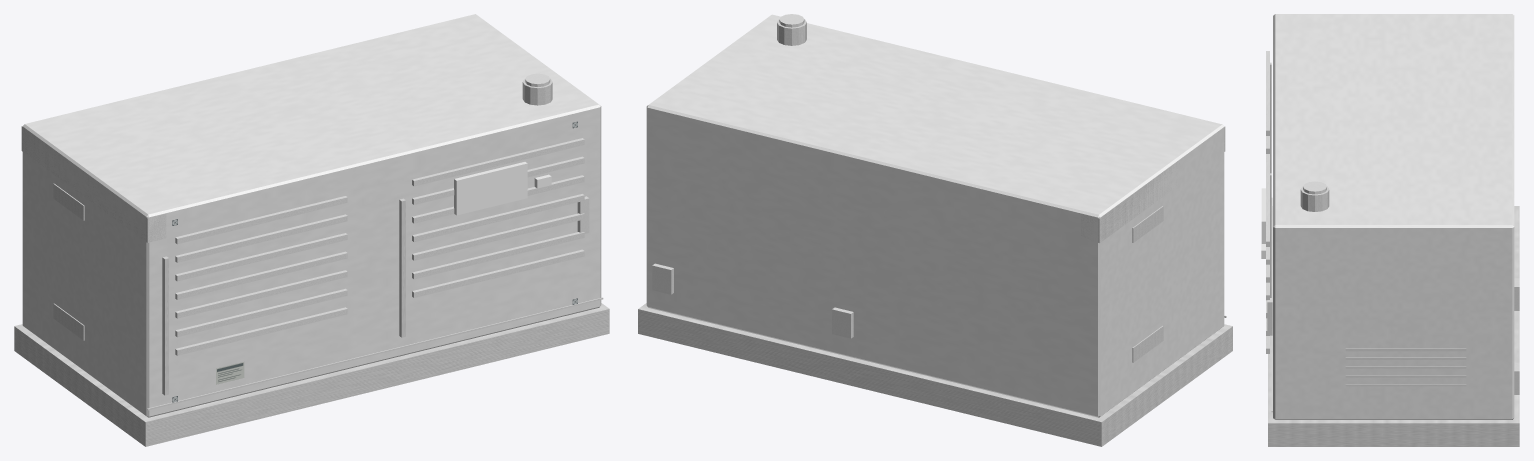
File: standbygenerator_medium.obj
The picture shows the model from 3 angles, left to right: view 1: azimuth 30°, elevation 25°; view 2: azimuth 150°, elevation 25°; view 3: azimuth 270°, elevation 25°; orthographic projection. The views are drawn at different scales.
Parts seen in each view (by area): view 1: Case, Trim, Vents, Display; view 2: Case, Trim, Output; view 3: Case, Trim, Vents, Output, Display.
Part boxes in pixels (x1,y1,x2,y2): Case: [22, 14, 601, 417]; Trim: [14, 78, 609, 446]; Vents: [175, 73, 584, 355]; Display: [454, 162, 527, 215]; Case: [646, 14, 1224, 417]; Trim: [638, 19, 1232, 446]; Output: [652, 263, 853, 338]; Case: [1273, 14, 1514, 419]; Trim: [1267, 15, 1519, 446]; Vents: [1266, 51, 1326, 353]; Output: [1514, 278, 1519, 394]; Display: [1261, 188, 1265, 243].
Size of the model in its own units: 1.96 by 1 by 0.985.
